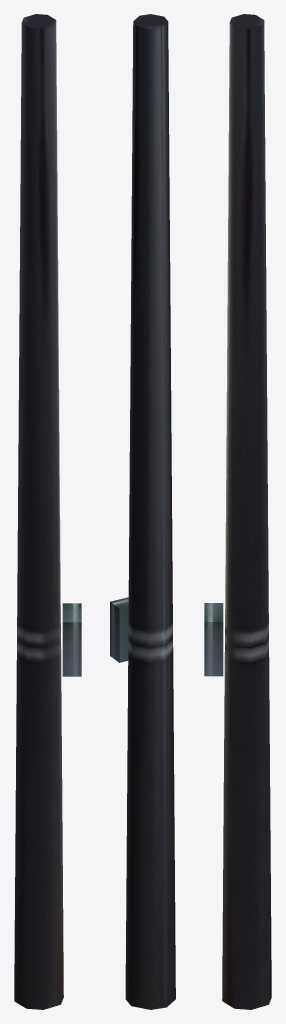
File: emergencyBell.gltf
The picture shows the model from 3 angles, left to right: view 1: azimuth 90°, elevation 25°; view 2: azimuth 210°, elevation 25°; view 3: azimuth 270°, elevation 25°; orthographic projection.
Parts seen in each view (by area): view 1: emergencyBell; view 2: emergencyBell; view 3: emergencyBell.
Boxes of the visible parts, bbox=[...] form: emergencyBell: bbox=[14, 14, 81, 1009]; emergencyBell: bbox=[110, 14, 175, 1009]; emergencyBell: bbox=[204, 14, 271, 1009].
Bounding box in the file's own units: 1.63 × 35.35 × 2.21.
Materials: 1 (1 with a texture image).
